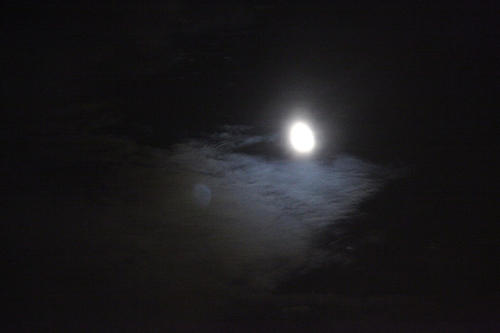moon: (287, 119, 315, 155)
